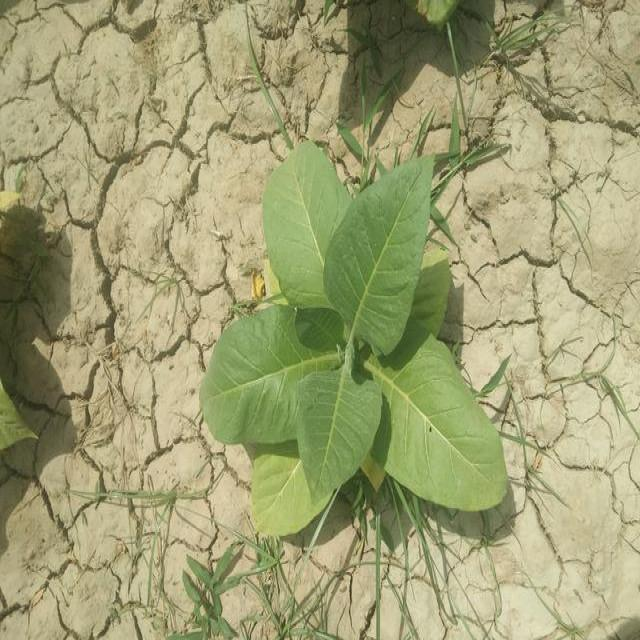crop: (202, 136, 506, 534)
